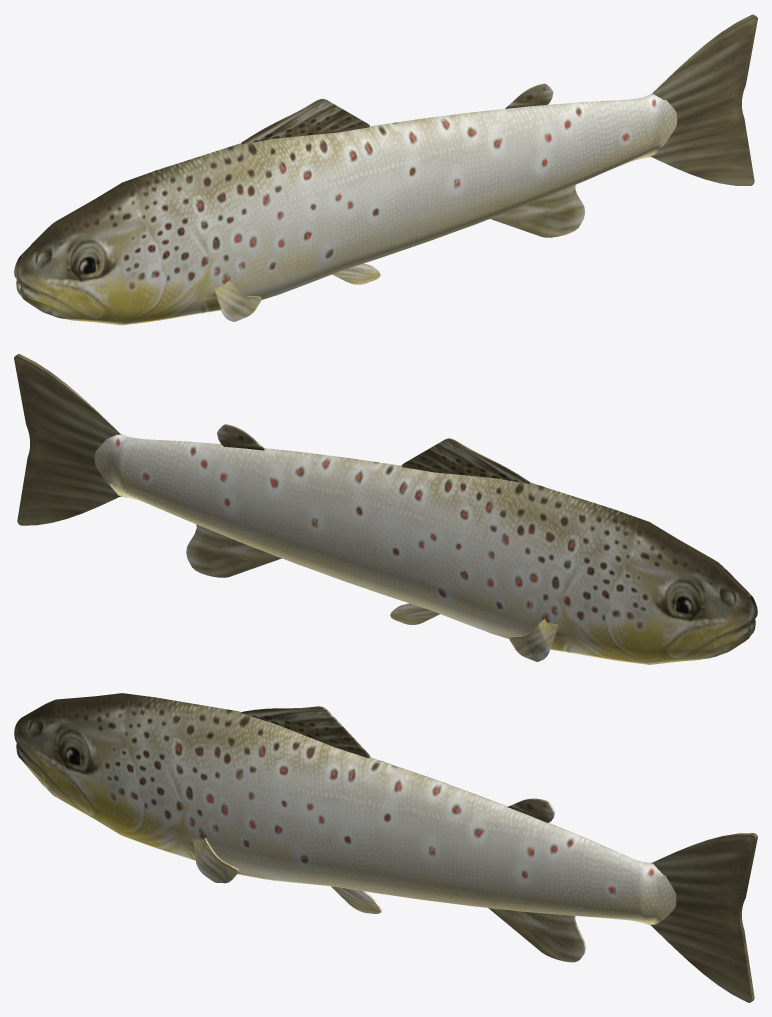
File: brown trout.fbx
3 views of the same model, one above another, from view 1: azimuth 30°, elevation 25°; view 2: azimuth 150°, elevation 25°; view 3: azimuth 330°, elevation 25° (orthographic).
Parts seen in each view (by area): view 1: Line001, Line002, Line009, Line005, Line011, Line003, Line010; view 2: Line001, Line002, Line009, Line005, Line012, Line003, Line010; view 3: Line001, Line002, Line009, Line005, Line011, Line010, Line003.
Boxes of the visible parts, left/top/right/bottom form: Line001: left=14, top=93, right=677, bottom=325; Line002: left=650, top=14, right=757, bottom=185; Line009: left=490, top=185, right=585, bottom=237; Line005: left=241, top=98, right=369, bottom=144; Line011: left=214, top=280, right=261, bottom=321; Line003: left=505, top=83, right=553, bottom=108; Line010: left=332, top=263, right=380, bottom=284; Line001: left=94, top=432, right=757, bottom=664; Line002: left=14, top=354, right=120, bottom=525; Line009: left=186, top=524, right=281, bottom=577; Line005: left=401, top=438, right=530, bottom=483; Line012: left=509, top=619, right=558, bottom=661; Line003: left=217, top=424, right=264, bottom=450; Line010: left=390, top=603, right=439, bottom=624; Line001: left=14, top=693, right=676, bottom=925; Line002: left=651, top=833, right=757, bottom=1002; Line009: left=488, top=908, right=585, bottom=962; Line005: left=241, top=706, right=370, bottom=758; Line011: left=192, top=837, right=239, bottom=883; Line010: left=331, top=886, right=381, bottom=913; Line003: left=508, top=798, right=554, bottom=822.
Bounding box in the file's own units: 1047 × 263 × 74.06.
Materials: 5 (5 with a texture image).
